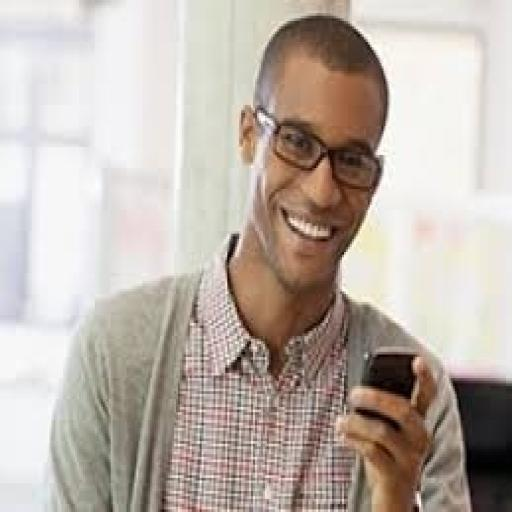texting: (38, 10, 476, 510)
